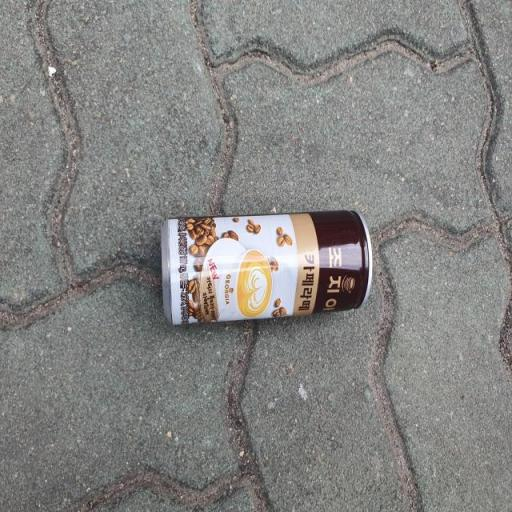metal: (132, 174, 398, 360)
